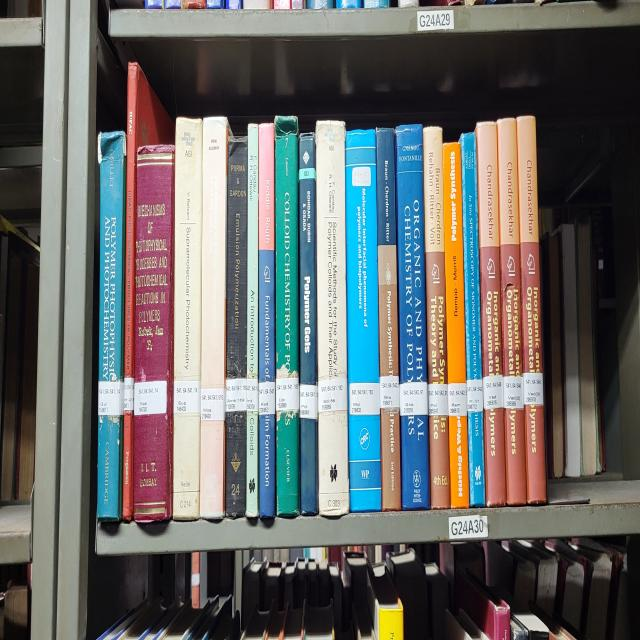Book: (134, 143, 175, 522), (315, 122, 350, 517), (345, 130, 381, 511), (395, 124, 430, 509), (200, 116, 230, 519), (172, 119, 202, 519), (516, 116, 546, 503), (476, 122, 506, 506), (98, 133, 126, 519), (498, 119, 526, 503), (422, 127, 450, 509), (274, 116, 300, 517), (375, 130, 401, 511), (442, 143, 469, 509), (460, 133, 485, 506), (225, 138, 248, 517), (122, 62, 141, 519), (299, 133, 318, 514), (259, 124, 275, 519), (246, 124, 259, 519)
Label: (134, 381, 168, 417), (318, 379, 348, 414), (399, 381, 428, 417), (349, 381, 380, 414), (99, 381, 124, 417), (276, 376, 299, 414), (174, 381, 200, 414), (201, 387, 225, 422), (482, 376, 504, 411), (448, 381, 468, 417), (428, 384, 449, 417), (225, 379, 246, 411), (380, 376, 400, 409), (504, 376, 524, 409), (524, 373, 544, 406), (300, 384, 318, 419), (466, 379, 484, 414), (259, 381, 275, 414), (246, 379, 259, 411), (124, 376, 134, 414)
